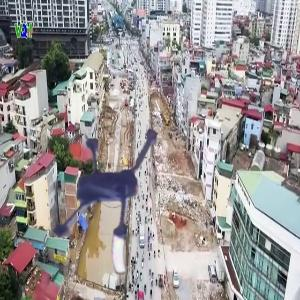drone: (20, 117, 198, 295)
